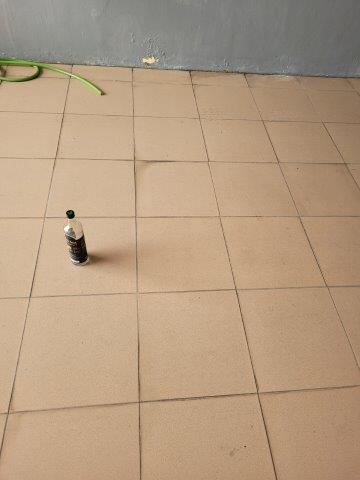botolkaca: (65, 210, 89, 264)
